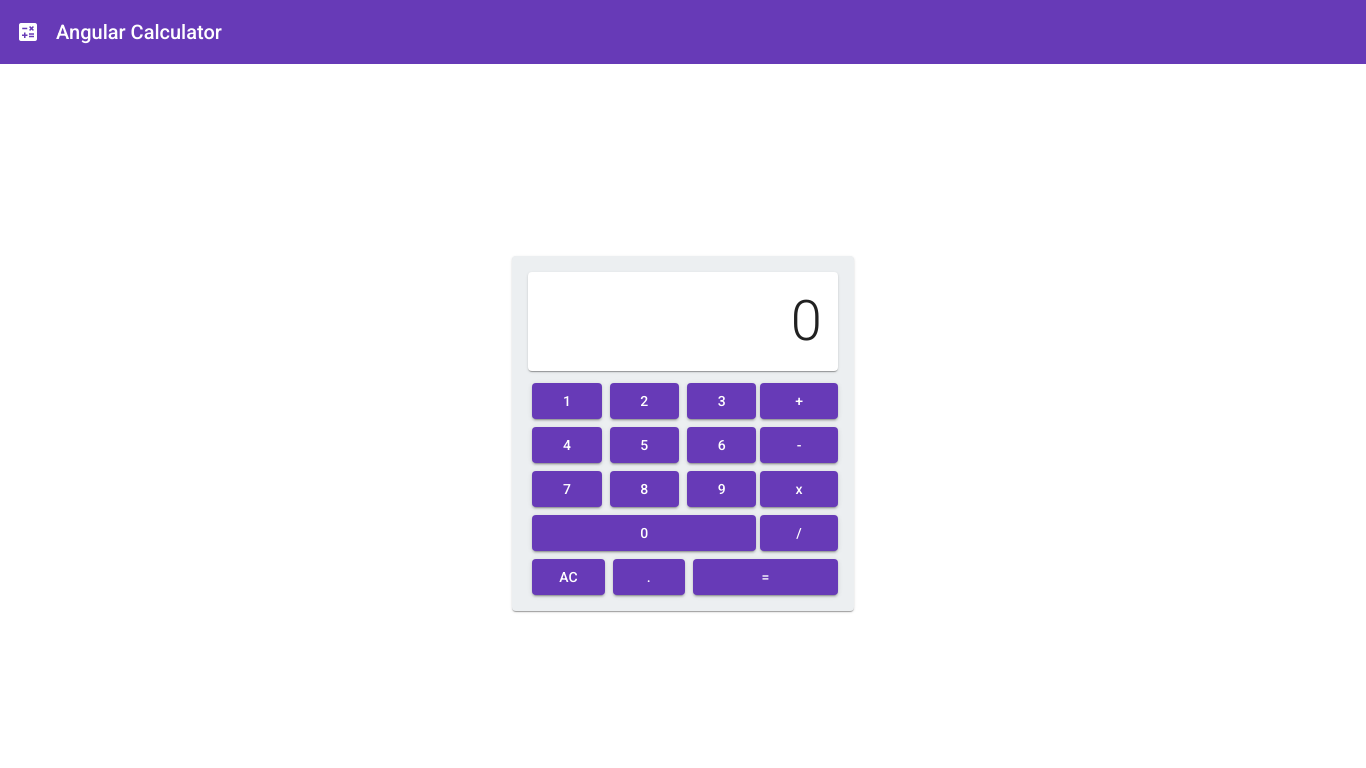
Test: Test Application › Display SHOULD display new value WHEN some new number button clicked
The image size is (1366, 768).
Click the button "2". click: (645, 401)
box: [610,383,679,419]
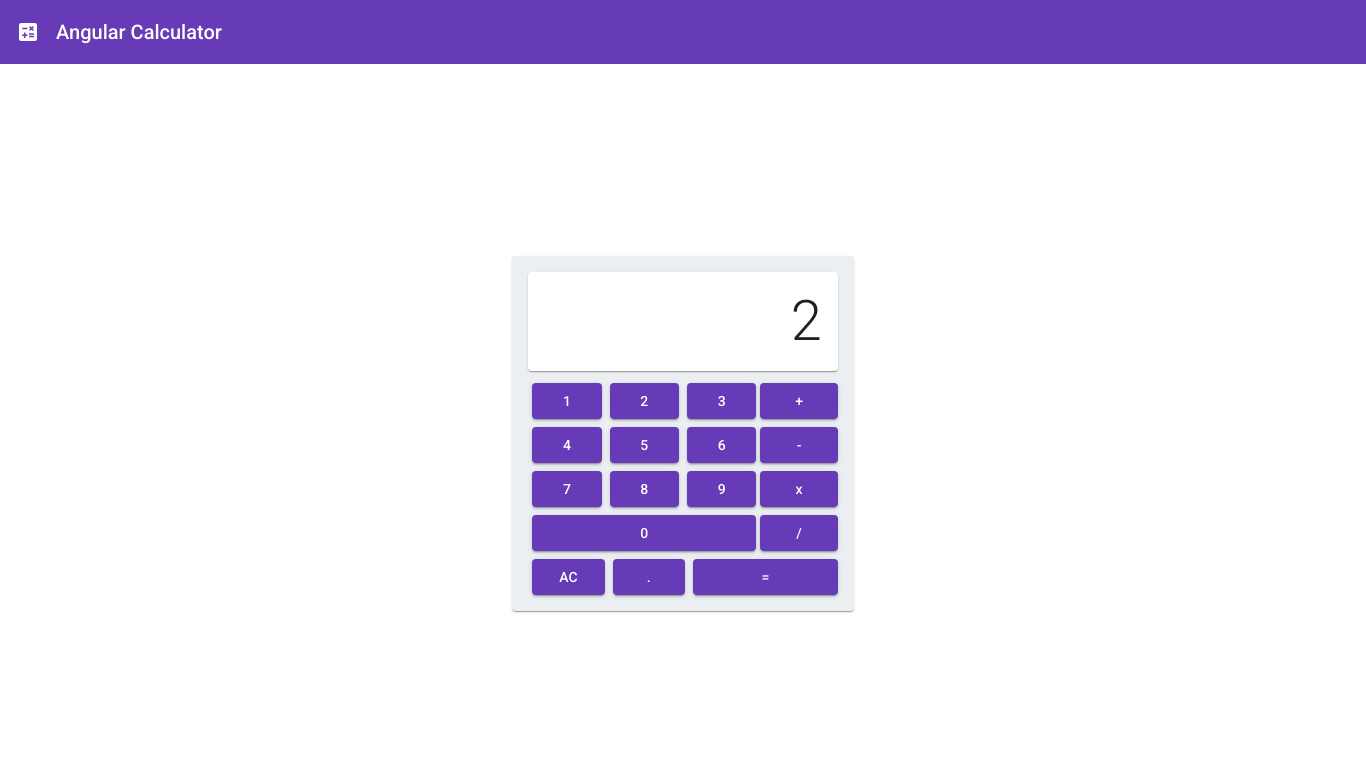
Click the button "+". click: (799, 401)
box: [760,383,837,419]
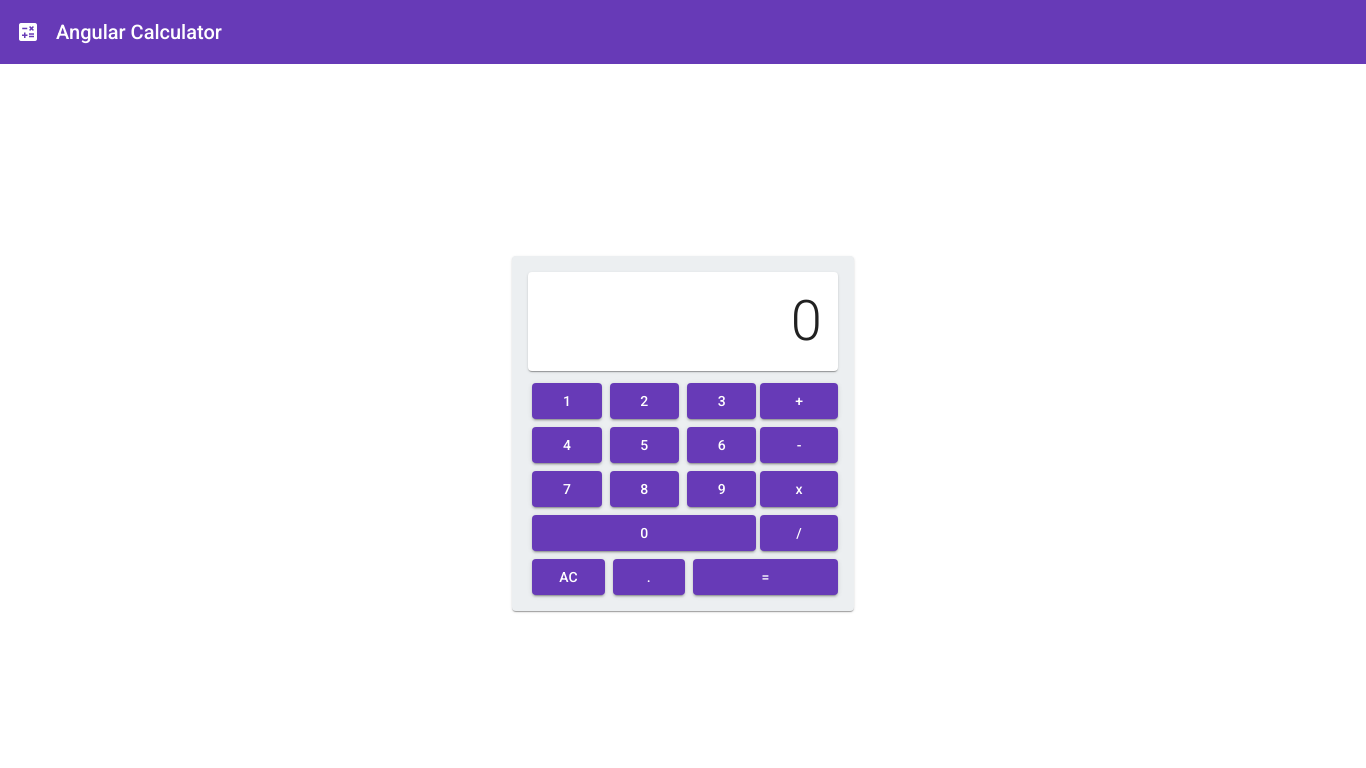
Click the button "6". click: (722, 445)
box: [687,427,756,463]
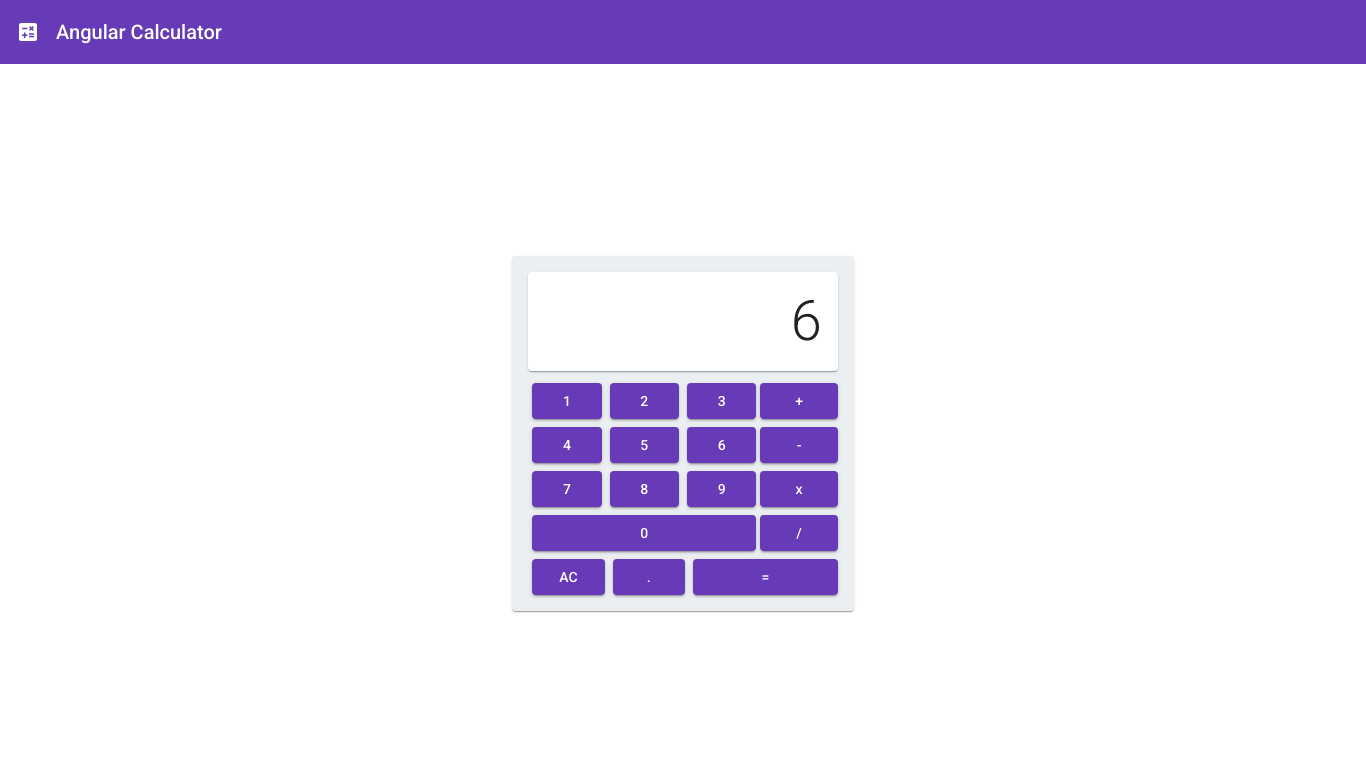
Result: the text "6" is shown at [791,288,822,354]
